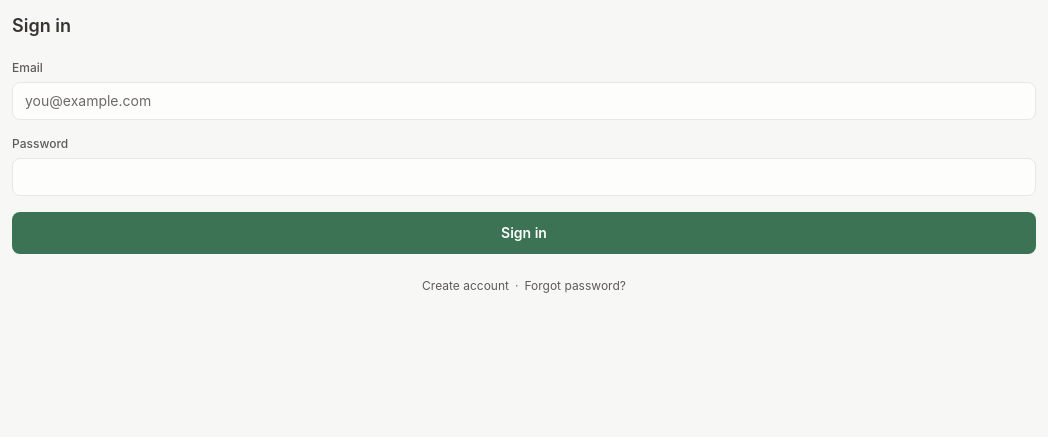
Test: LoginPage error mapping › shows the MFA field on a 403 MFA challenge
This screenshot has width=1048, height=437.
Type "alex@example.com" into the field labelled "Email" at (524, 101), box x1=12 y1=82 x2=1036 y2=120
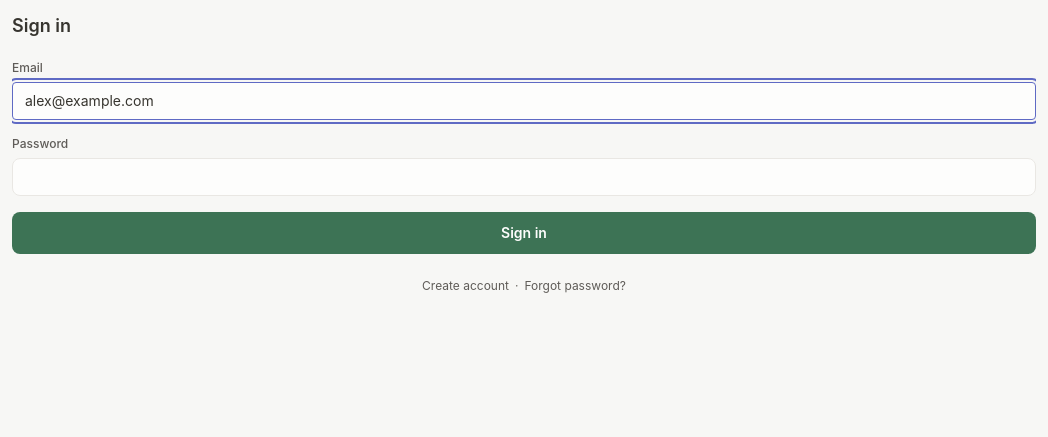
Type "hunter2boogaloo" into the password field labelled "Password" at (524, 177), box x1=12 y1=158 x2=1036 y2=196
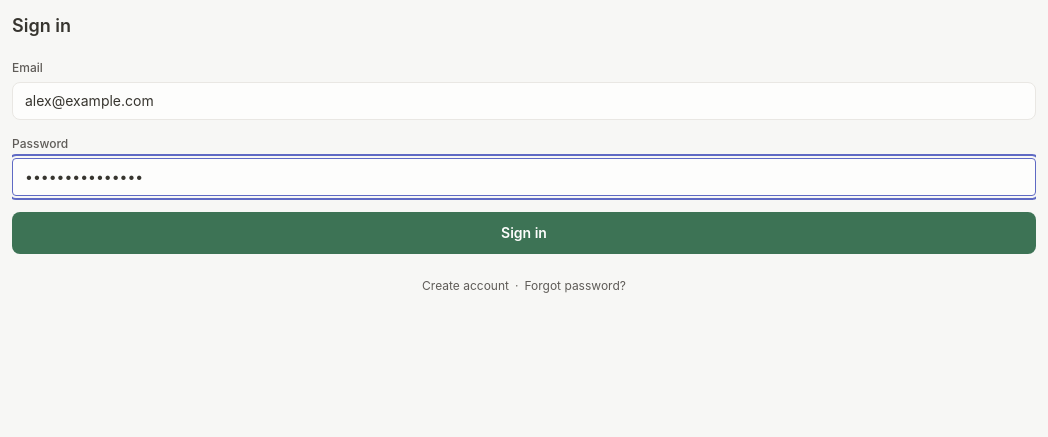
Click the button "Sign in" at (524, 233), box x1=12 y1=212 x2=1036 y2=254
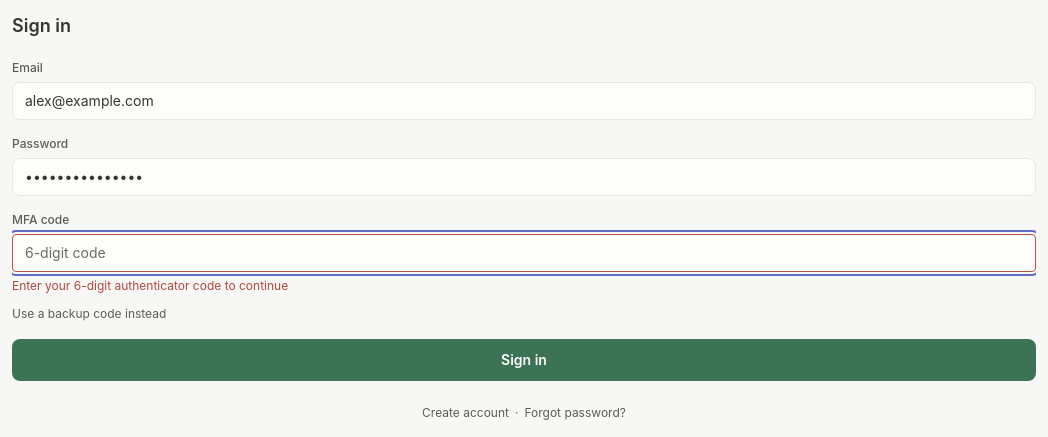
Expected: the field labelled "MFA code" is shown, x1=12 y1=234 x2=1036 y2=272
